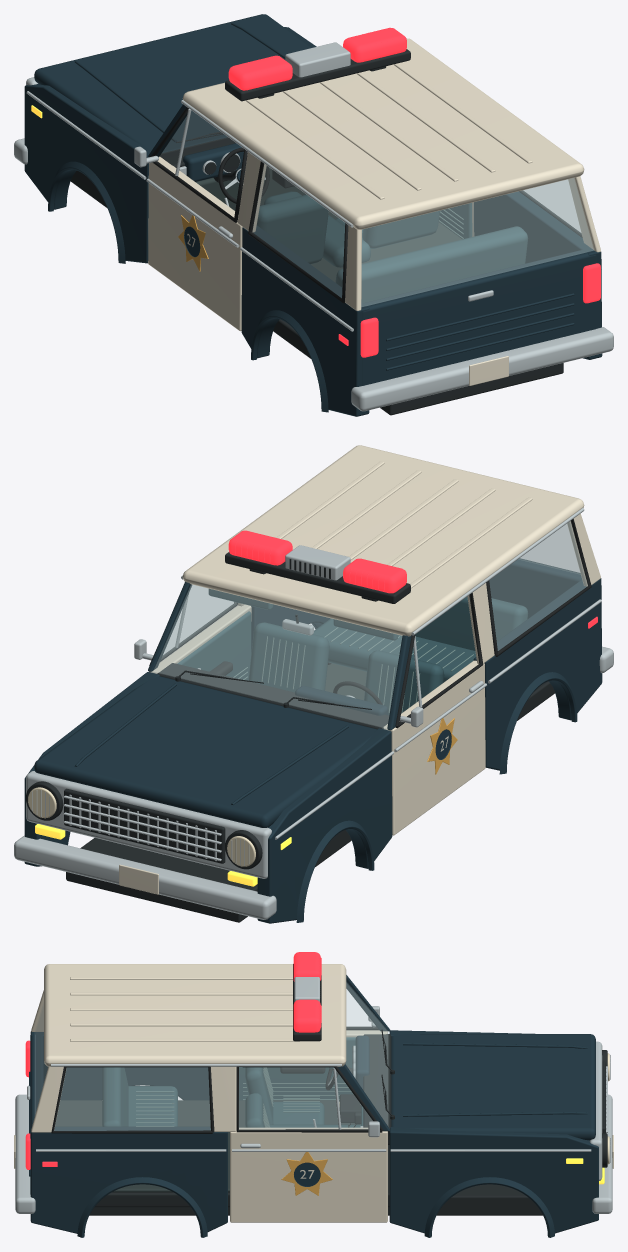
The model's file is TrailDusterRolling.fbx.
3 views of the same model, one above another, from view 1: azimuth 30°, elevation 25°; view 2: azimuth 150°, elevation 25°; view 3: azimuth 270°, elevation 25° (orthographic). The views are drawn at different scales.
Visible parts, largest first — view 1: TrailDusterRolling; view 2: TrailDusterRolling; view 3: TrailDusterRolling.
Boxes of the visible parts, x1=… form: TrailDusterRolling: x1=14, y1=14, x2=613, y2=416; TrailDusterRolling: x1=14, y1=445, x2=613, y2=923; TrailDusterRolling: x1=14, y1=952, x2=613, y2=1237.
Size of the model in its own units: 240 by 188 by 513.
